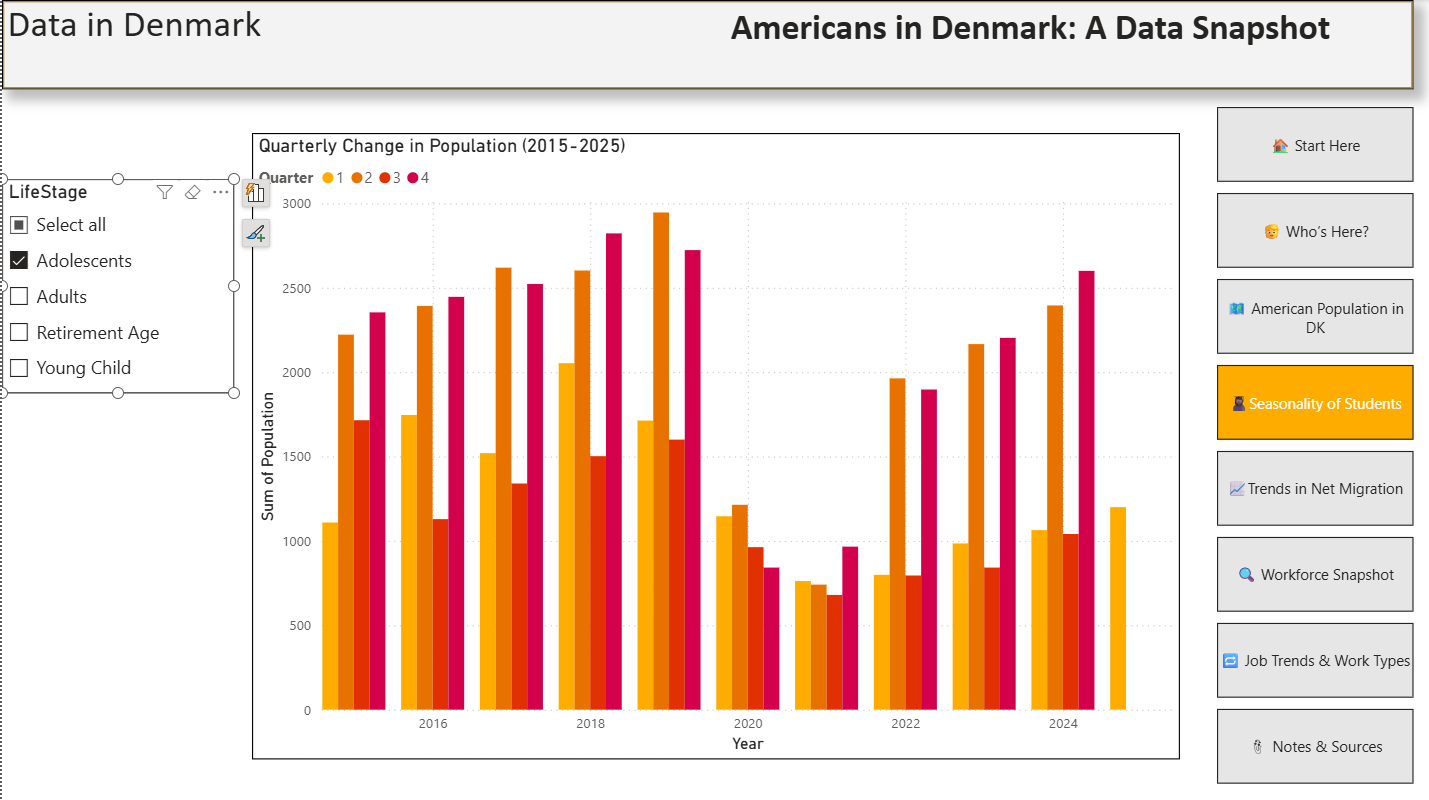

The dashboard page shown, as its layout file describes it:
{"tool":"powerbi","page":{"name":"👩🏾🎓Seasonality of Students","canvas":[1280,720],"ordinal":3},"visuals":[{"type":"group","id":"g1","title":"Group 3","box":[0,0,1264,80],"z":0},{"type":"shape","box":[0,0,1264,80],"z":0,"group":"g1"},{"type":"lineClusteredColumnComboChart","title":"Quarterly Change in Population (2015-2025)","fields":{"Category":["fact_age_pop_quarters.Time.Year"],"Y":["Sum(fact_age_pop_quarters.Population)"],"Series":["fact_age_pop_quarters.Time.Quarter"]},"box":[224.3,118.9,831.1,560.8],"z":1000},{"type":"listSlicer","fields":{"Values":["Dim_AgeGroup.LifeStage"]},"box":[0,160,208,192],"z":2000},{"type":"pageNavigator","box":[1088,96,176,608],"z":3000},{"type":"textbox","title":"Data in Denmark","box":[0,0,265,80],"z":4000,"group":"g2"},{"type":"textbox","box":[640,0,623.8,80],"z":5000,"group":"g2"},{"type":"group","id":"g2","title":"Group 4","box":[0,0,1263.8,80],"z":5002,"group":"g1"}]}

Visuals, with their boxes on the page's 1280x720 design canvas (x1, y1, x2, y2). These are canvas units, not pixel positions in the 1429x800 screenshot, which may show the page scaled, cropped or inside an application window:
"Group 3" group: (left=0, top=0, right=1264, bottom=80)
shape: (left=0, top=0, right=1264, bottom=80)
"Quarterly Change in Population (2015-2025)" lineClusteredColumnComboChart: (left=224, top=119, right=1055, bottom=680)
listSlicer - Dim_AgeGroup.LifeStage: (left=0, top=160, right=208, bottom=352)
pageNavigator: (left=1088, top=96, right=1264, bottom=704)
"Data in Denmark" textbox: (left=0, top=0, right=265, bottom=80)
textbox: (left=640, top=0, right=1264, bottom=80)
"Group 4" group: (left=0, top=0, right=1264, bottom=80)
